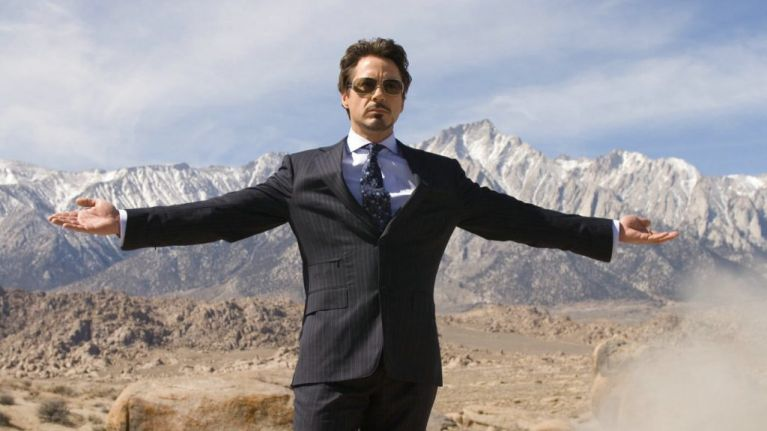person: (39, 33, 687, 431)
